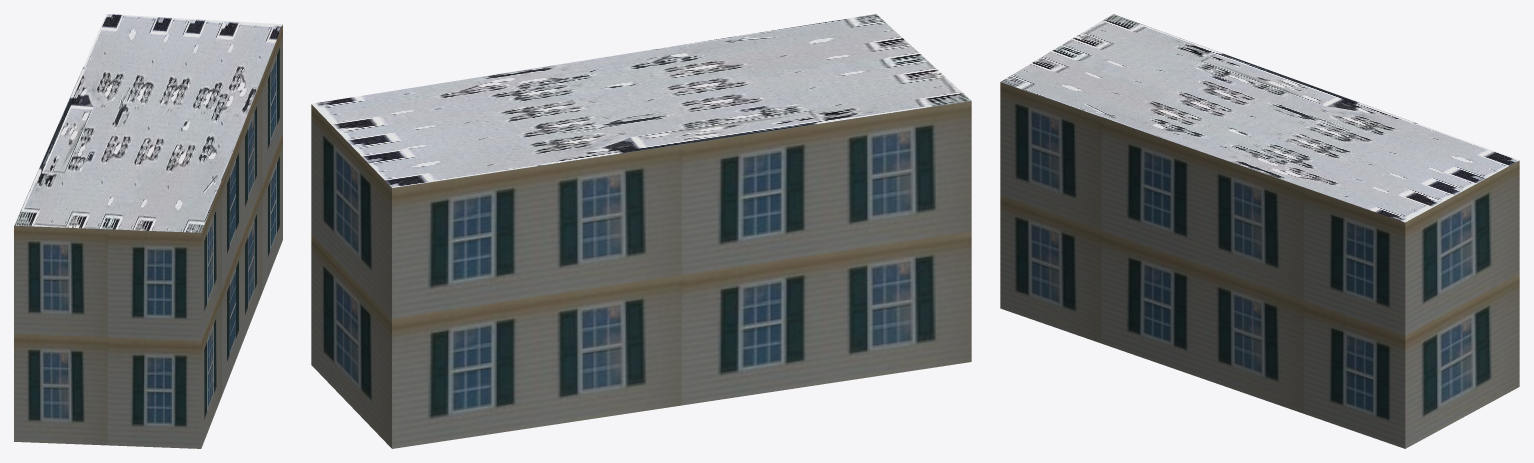
The model's file is ResTex__3758.fbx.
3 renders of one model, left to right at view 1: azimuth 30°, elevation 25°; view 2: azimuth 150°, elevation 25°; view 3: azimuth 270°, elevation 25°, orthographic. The views are drawn at different scales.
Visible parts, largest first — view 1: CityEngineMaterial_7_m, CityEngineMaterial_15_m; view 2: CityEngineMaterial_7_m, CityEngineMaterial_15_m; view 3: CityEngineMaterial_7_m, CityEngineMaterial_15_m.
Boxes of the visible parts, x1=… form: CityEngineMaterial_7_m: x1=14, y1=24, x2=282, y2=448; CityEngineMaterial_15_m: x1=14, y1=14, x2=282, y2=232; CityEngineMaterial_7_m: x1=311, y1=101, x2=971, y2=448; CityEngineMaterial_15_m: x1=311, y1=14, x2=971, y2=187; CityEngineMaterial_7_m: x1=1000, y1=82, x2=1519, y2=448; CityEngineMaterial_15_m: x1=1001, y1=14, x2=1519, y2=222.
Bounding box in the file's own units: 11.85 × 6 × 12.48.
2 materials, 2 textured.
